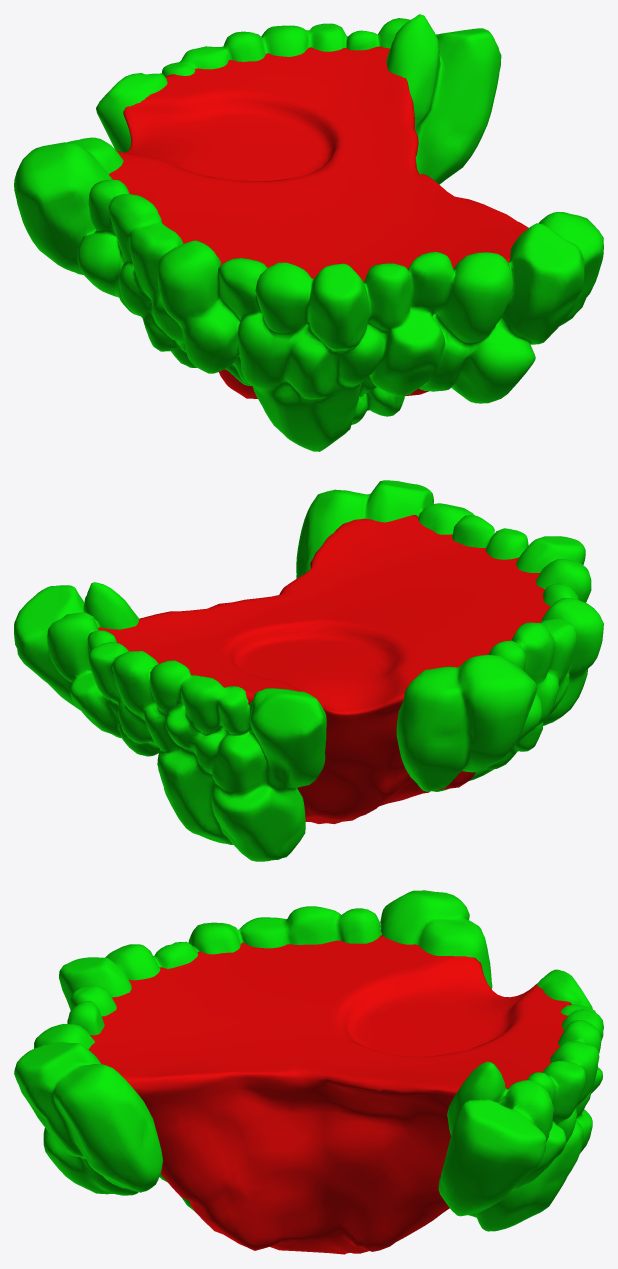
Rendered from BigIslandTower_low.fbx.
3 renders of one model, top to bottom at view 1: azimuth 30°, elevation 25°; view 2: azimuth 150°, elevation 25°; view 3: azimuth 270°, elevation 25°, orthographic. The views are drawn at different scales.
Visible parts, largest first — view 1: PM3D_PolySphere3, PM3D_PolySphere1; view 2: PM3D_PolySphere3, PM3D_PolySphere1; view 3: PM3D_PolySphere1, PM3D_PolySphere3.
Boxes of the visible parts, bbox=[...] form: PM3D_PolySphere3: bbox=[14, 14, 603, 451]; PM3D_PolySphere1: bbox=[109, 46, 528, 398]; PM3D_PolySphere3: bbox=[14, 480, 603, 861]; PM3D_PolySphere1: bbox=[98, 515, 550, 824]; PM3D_PolySphere1: bbox=[88, 935, 571, 1254]; PM3D_PolySphere3: bbox=[14, 890, 603, 1231].
Bounding box in the file's own units: 4.22 × 2.18 × 4.4.
